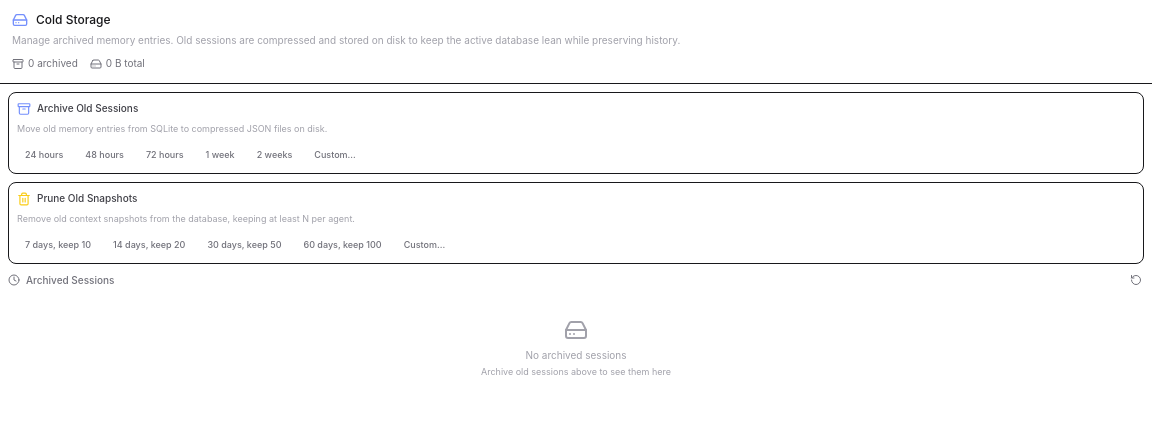
Test: ColdStoragePanel › archive actions › shows success toast "No sessions to archive" when count is 0
Click the button "24 hours" at (44, 155), box top-left (17, 144), bottom-right (71, 165)
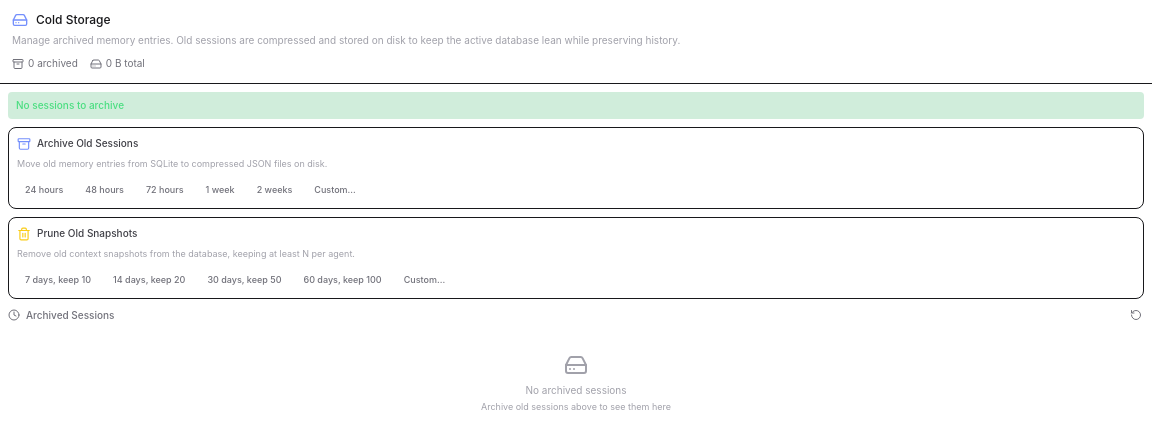
Expected: the text "No sessions to archive" is shown, top-left (8, 92), bottom-right (1144, 119)
